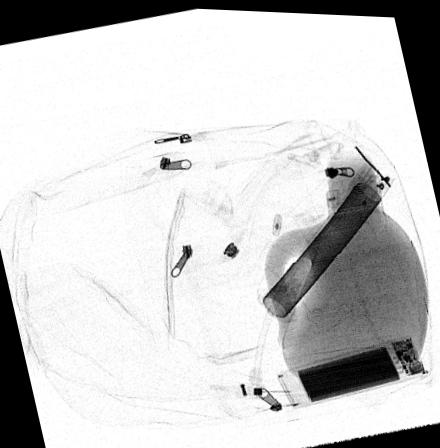Powerbank: (276, 331, 428, 405)
